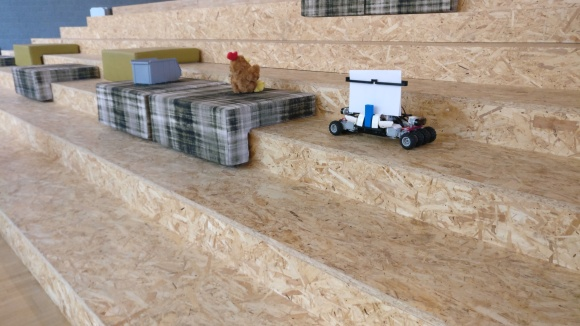car: (329, 68, 438, 149)
chicken: (225, 49, 268, 95)
tray: (129, 55, 183, 86)
